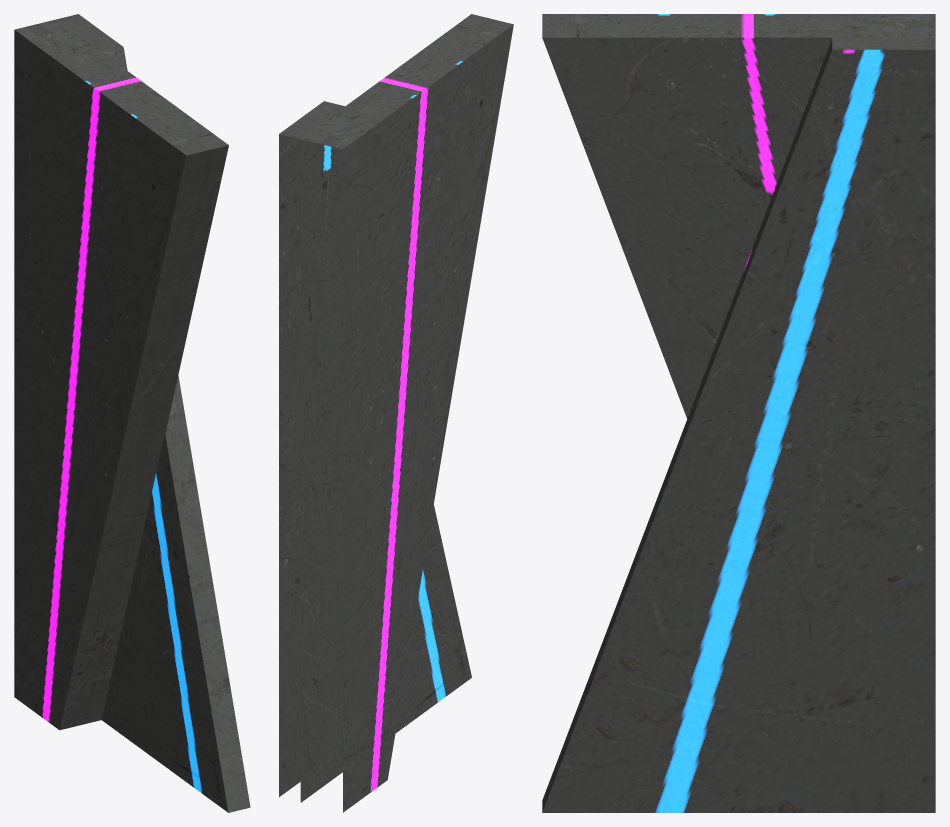
The model's file is Parition.fbx.
The picture shows the model from 3 angles, left to right: view 1: azimuth 30°, elevation 25°; view 2: azimuth 150°, elevation 25°; view 3: azimuth 270°, elevation 25°; orthographic projection. The views are drawn at different scales.
Parts seen in each view (by area): view 1: Cube.003; view 2: Cube.003; view 3: Cube.003.
Boxes of the visible parts, left/top/right/bottom form: Cube.003: left=14, top=14, right=250, bottom=812; Cube.003: left=279, top=14, right=513, bottom=812; Cube.003: left=542, top=14, right=935, bottom=812.
Bounding box in the file's own units: 58.52 × 582 × 272.
Materials: 1 (1 with a texture image).
